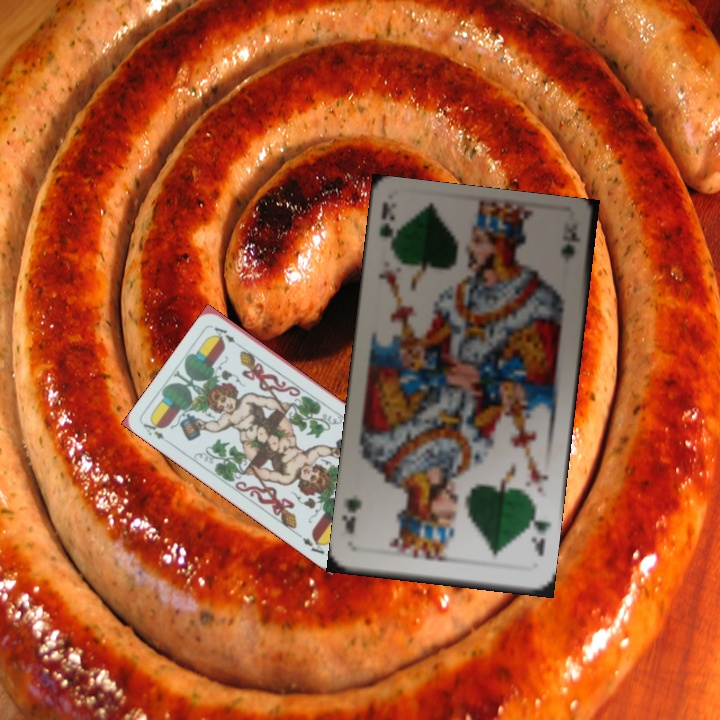EA: (139, 416, 167, 442)
GK: (375, 200, 400, 261), (525, 509, 553, 559)
